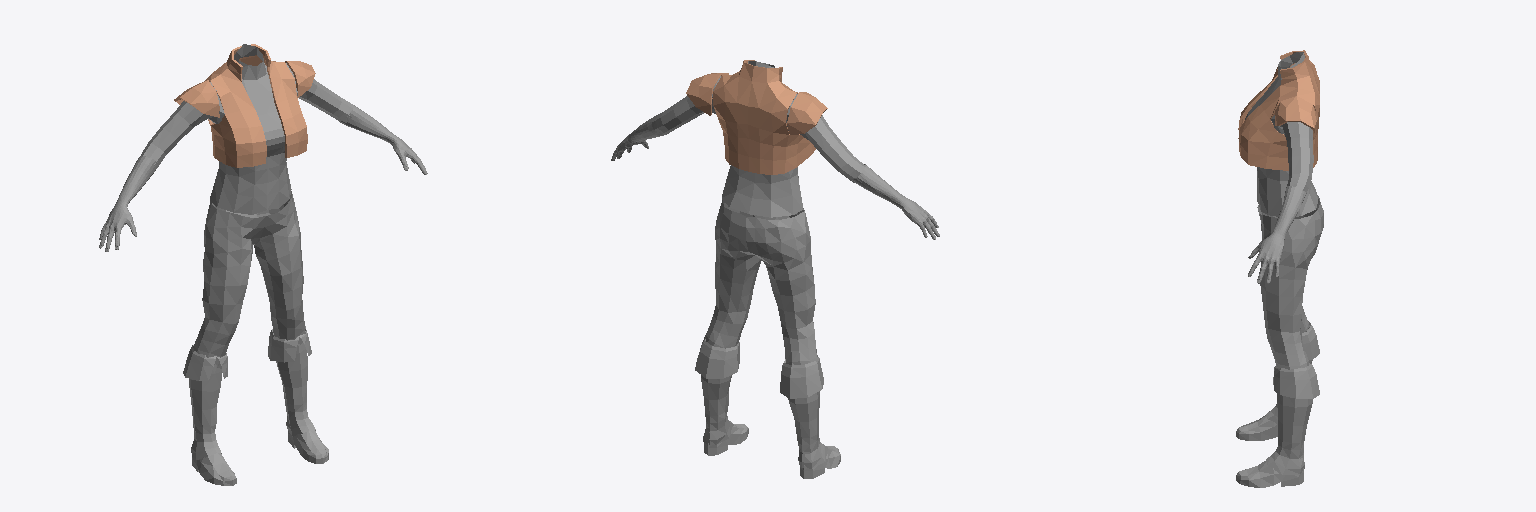
File: pantses.obj
The picture shows the model from 3 angles: view 1: azimuth 30°, elevation 25°; view 2: azimuth 150°, elevation 25°; view 3: azimuth 270°, elevation 25°; orthographic projection.
Parts seen in each view (by area): view 1: lo_pants_Plane.007, lo_shirt_Plane.002, lo_vest_Plane.008, lo_boots_Circle.003, lo_hands_female_generic.obj.005; view 2: lo_pants_Plane.007, lo_vest_Plane.008, lo_boots_Circle.003, lo_shirt_Plane.002, lo_hands_female_generic.obj.005; view 3: lo_boots_Circle.003, lo_pants_Plane.007, lo_vest_Plane.008, lo_shirt_Plane.002, lo_hands_female_generic.obj.005.
Part boxes in pixels (x1,y1,x2,y2): lo_pants_Plane.007: (193,191,305,368); lo_shirt_Plane.002: (141,44,353,214); lo_vest_Plane.008: (174,44,315,167); lo_boots_Circle.003: (183,326,328,485); lo_hands_female_generic.obj.005: (99,105,427,251); lo_pants_Plane.007: (705,199,817,364); lo_vest_Plane.008: (686,60,827,174); lo_boots_Circle.003: (695,335,840,478); lo_shirt_Plane.002: (652,61,865,217); lo_hands_female_generic.obj.005: (611,116,939,239); lo_boots_Circle.003: (1236,321,1319,487); lo_pants_Plane.007: (1257,195,1323,369); lo_vest_Plane.008: (1238,50,1319,170); lo_shirt_Plane.002: (1245,52,1317,216); lo_hands_female_generic.obj.005: (1248,186,1306,283).
Bounding box in the file's own units: 1.56 × 1.87 × 0.3659.